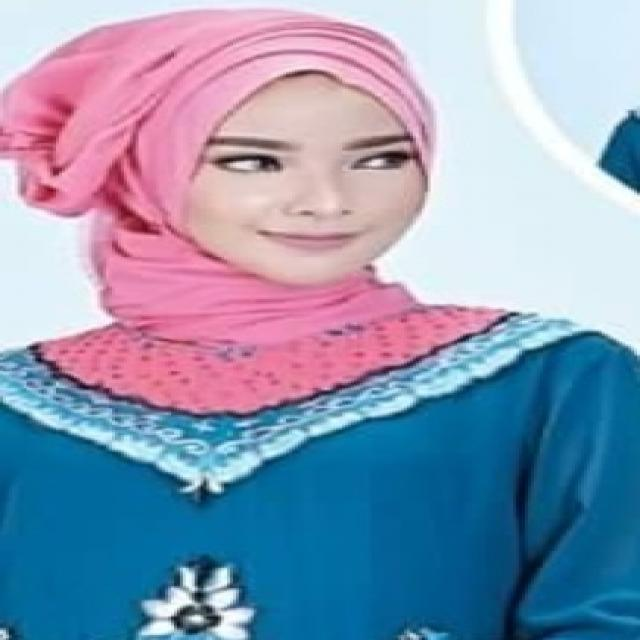head: (129, 22, 446, 287)
